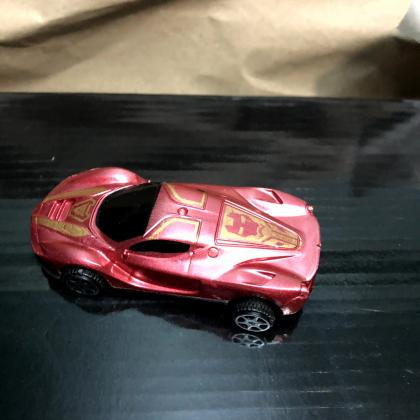Car: (30, 168, 322, 334)
